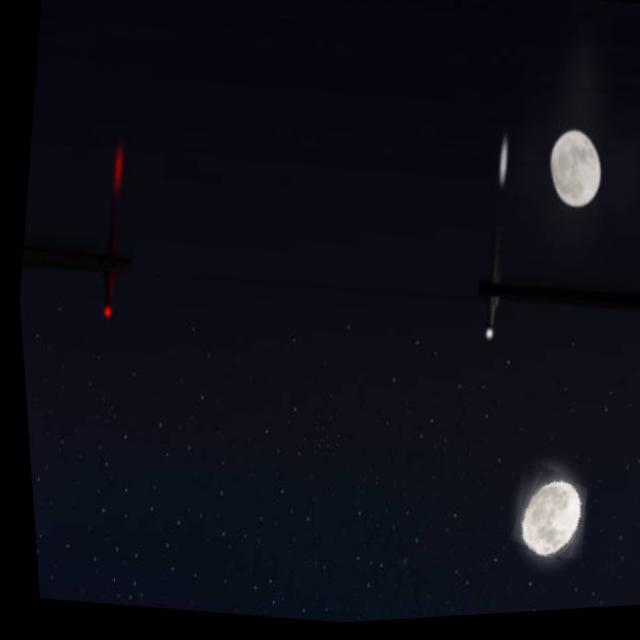moon: (501, 468, 586, 570)
